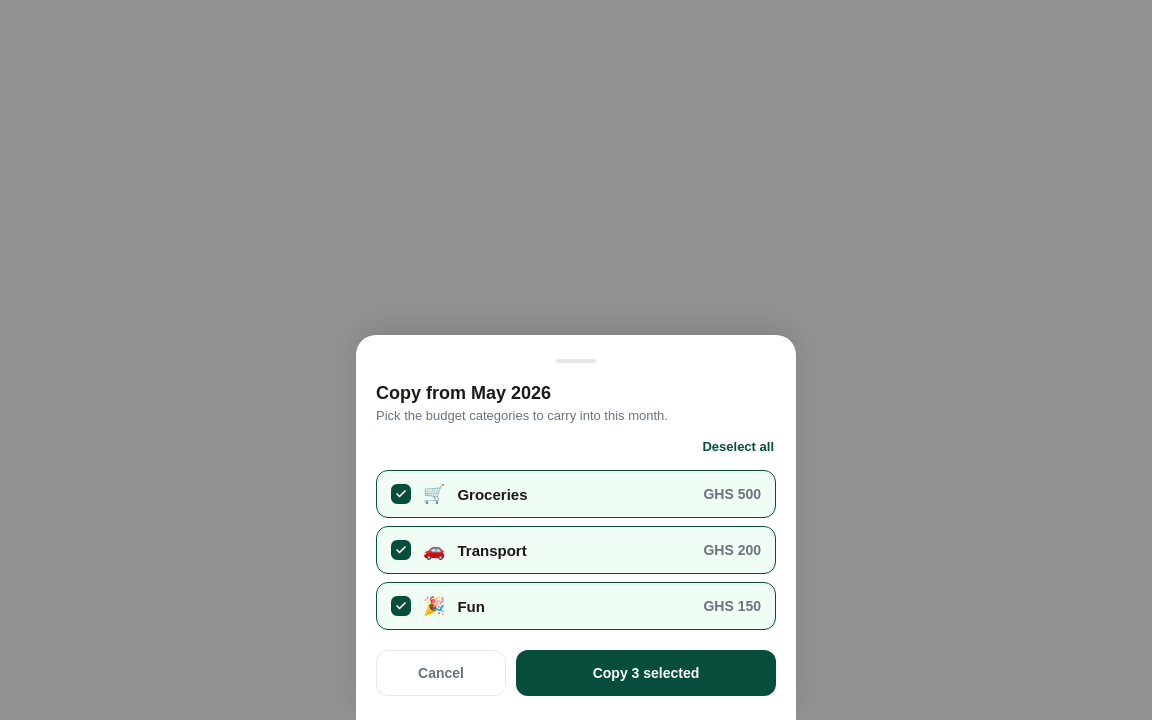
Test case: CopyCategoriesSheet › disables the copy button and prompts when nothing is selected
Click the button with test id "copy-category-pcat-1" at (492,494), box [376, 470, 776, 518]
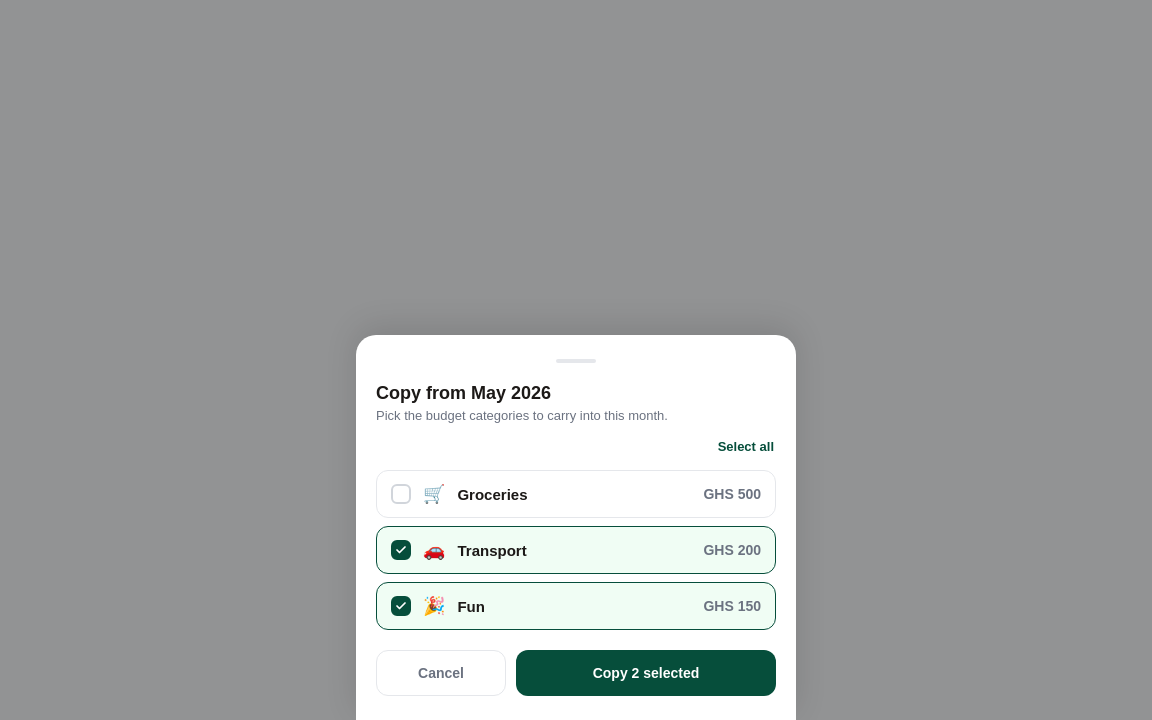
Click the button with test id "copy-category-pcat-2" at (492,550), box [376, 526, 776, 574]
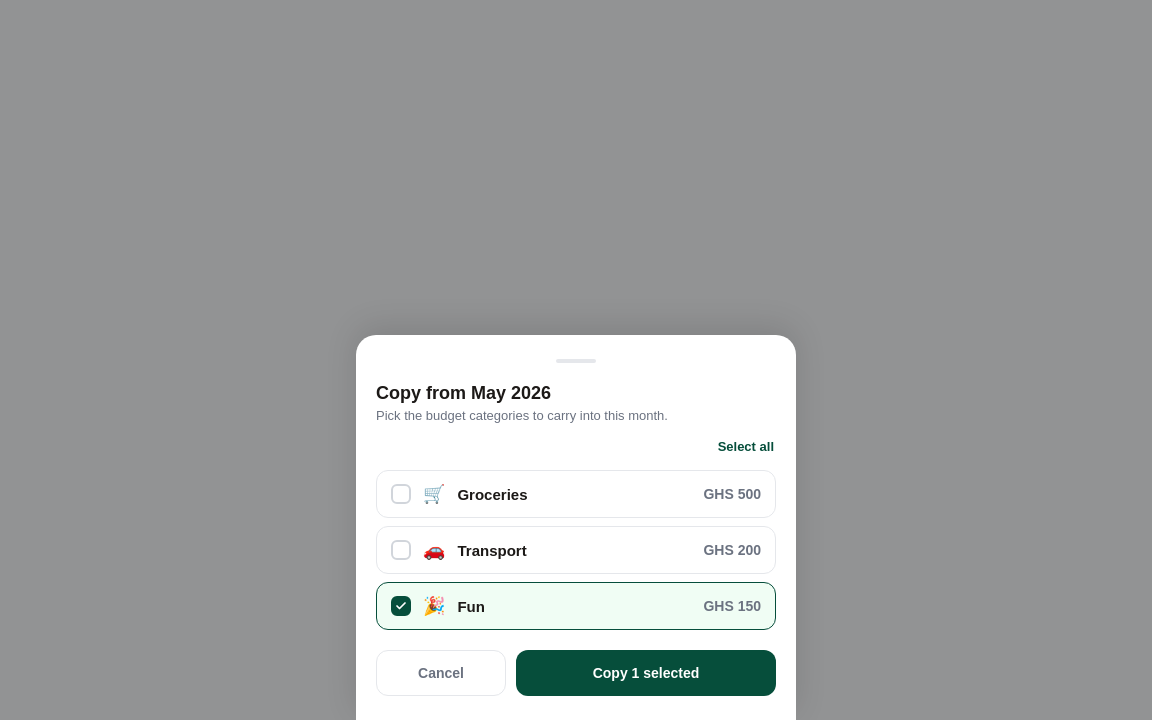
Click the button with test id "copy-category-pcat-3" at (732,606), box [376, 582, 776, 630]
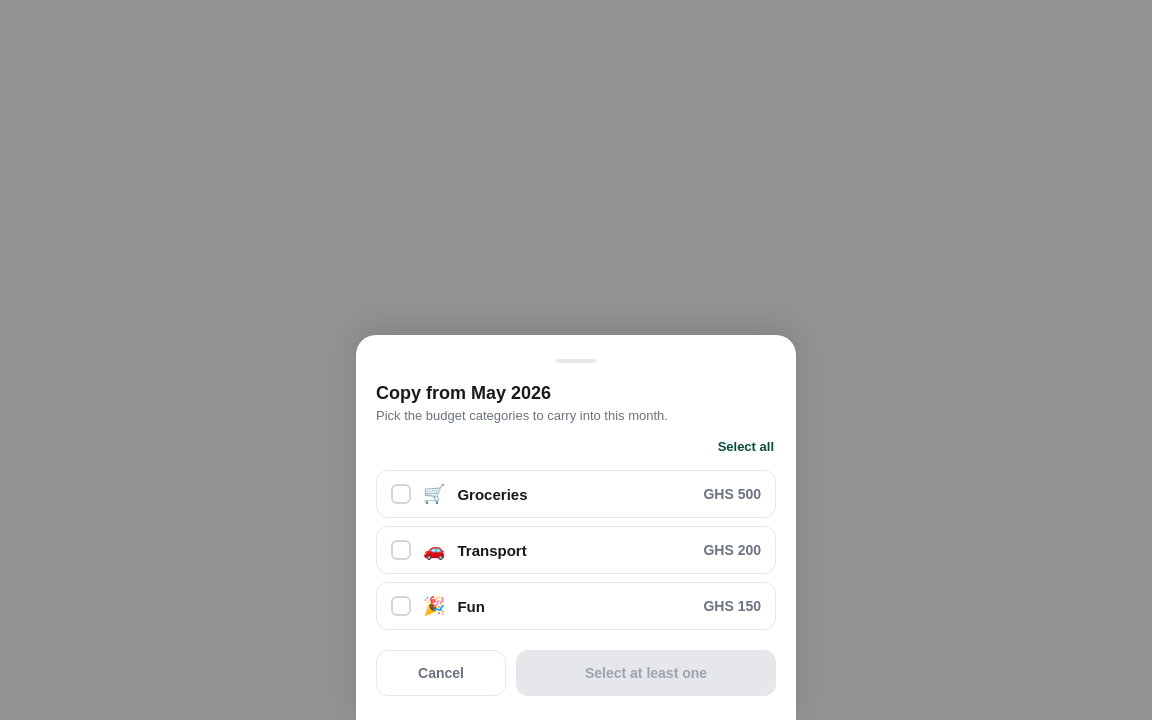
Expected: the button with test id "copy-categories-selected-btn" reads "Select at least one", [516, 650, 776, 696]
Expected: the button with test id "copy-categories-selected-btn" is disabled, [516, 650, 776, 696]
